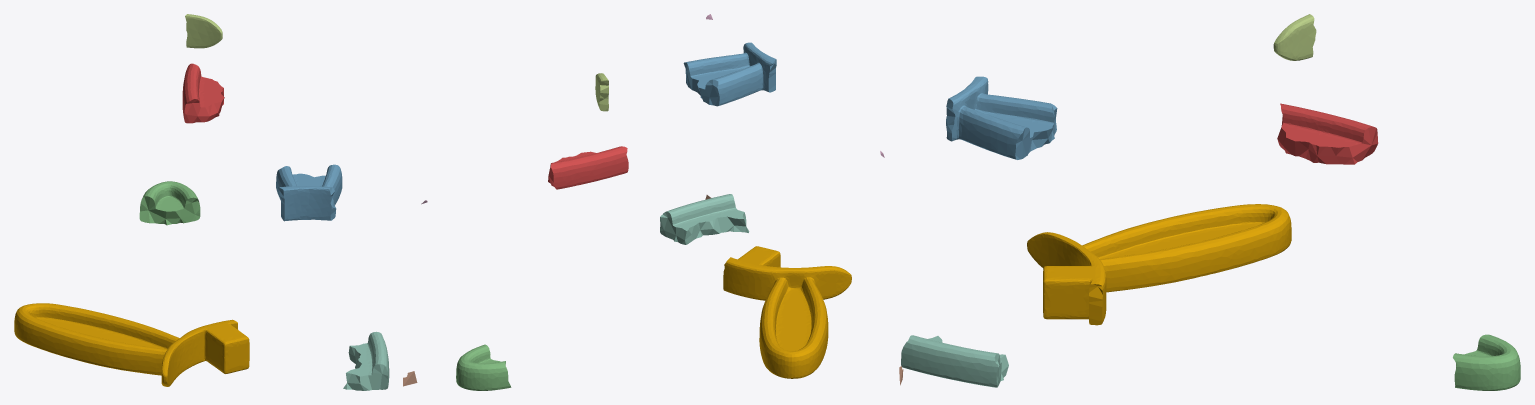
The model's file is mode_9_8pcs_transformed.glb.
The picture shows the model from 3 angles, left to right: view 1: azimuth 30°, elevation 25°; view 2: azimuth 150°, elevation 25°; view 3: azimuth 270°, elevation 25°; orthographic projection. The views are drawn at different scales.
Parts seen in each view (by area): view 1: piece_0.obj, piece_2.obj, piece_3.obj, piece_4.obj, piece_1.obj, piece_5.obj; view 2: piece_0.obj, piece_2.obj, piece_4.obj, piece_1.obj, piece_3.obj, piece_5.obj; view 3: piece_0.obj, piece_2.obj, piece_1.obj, piece_4.obj, piece_3.obj, piece_5.obj.
Part boxes in pixels (x1,y1,x2,y2): piece_0.obj: (14,303,249,386); piece_2.obj: (276,164,342,221); piece_3.obj: (139,181,200,225); piece_4.obj: (343,331,389,390); piece_1.obj: (182,63,224,123); piece_5.obj: (185,14,222,48); piece_0.obj: (723,246,851,378); piece_2.obj: (683,42,776,106); piece_4.obj: (660,194,749,244); piece_1.obj: (548,146,628,189); piece_3.obj: (456,344,511,390); piece_5.obj: (595,73,608,111); piece_0.obj: (1027,204,1291,325); piece_2.obj: (946,76,1057,159); piece_1.obj: (1277,103,1378,164); piece_4.obj: (901,335,1008,387); piece_3.obj: (1453,334,1520,390); piece_5.obj: (1273,14,1316,60).
Bounding box in the file's own units: 1 × 0.9597 × 1.68.
